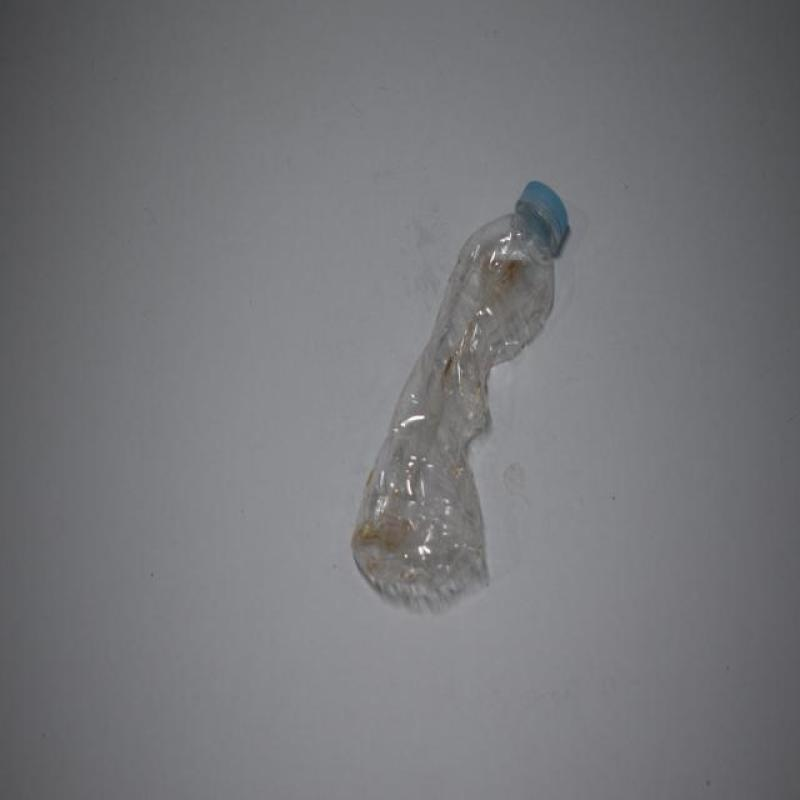botella: (354, 180, 572, 618)
